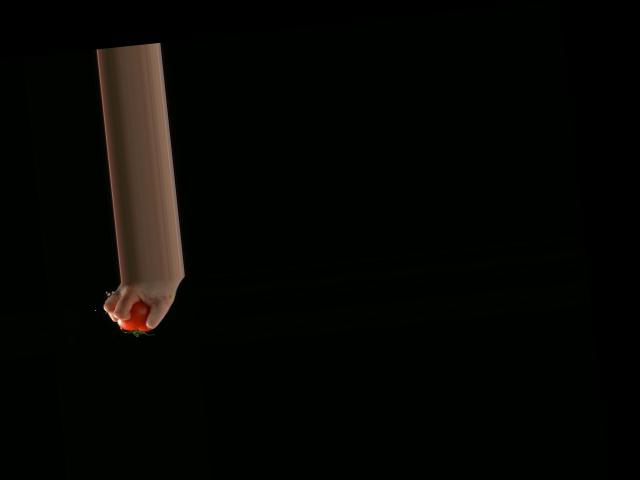tomato: (116, 300, 153, 333)
